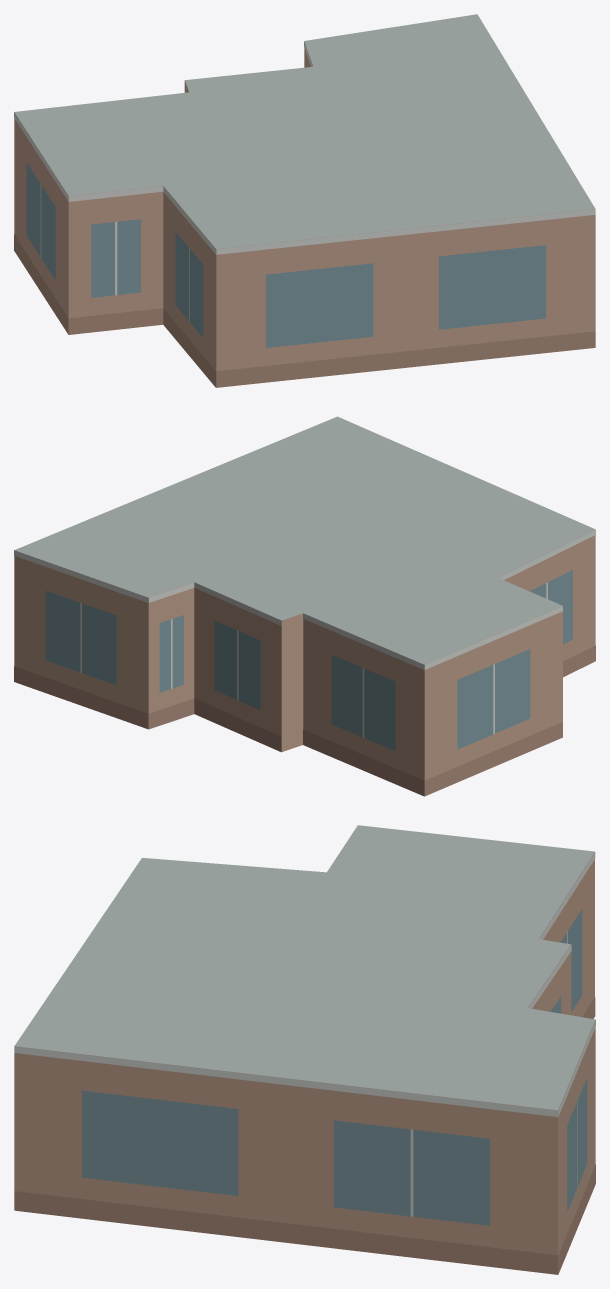
Rendered from survey-upis-33040146.glb.
3 views of the same model, one above another, from view 1: azimuth 30°, elevation 25°; view 2: azimuth 150°, elevation 25°; view 3: azimuth 270°, elevation 25° (orthographic). The views are drawn at different scales.
Visible parts, largest first — view 1: survey-upis-33040146.tmp; view 2: survey-upis-33040146.tmp; view 3: survey-upis-33040146.tmp.
Part boxes in pixels (x1=…): survey-upis-33040146.tmp: x1=14, y1=14, x2=595, y2=387; survey-upis-33040146.tmp: x1=14, y1=416, x2=595, y2=796; survey-upis-33040146.tmp: x1=14, y1=825, x2=595, y2=1274.
Bounding box in the file's own units: 11.37 × 3.05 × 9.79.
